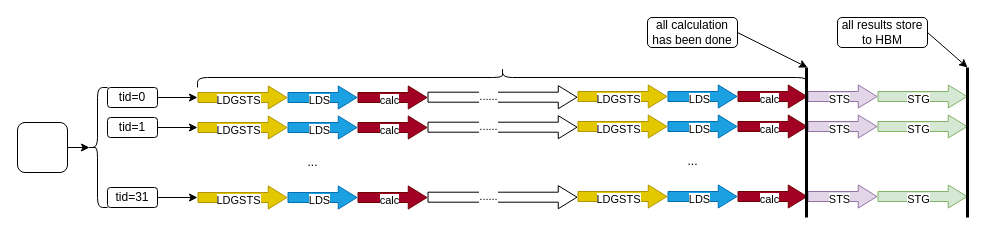
Some shapes in this 993 by 237 pixel diagram are drawn without their labels. The centre of each missing label's shape, as x and y in pixels:
"K_tiles" belongs at [502,77].
"one sinlge warp" belongs at [42,147].
